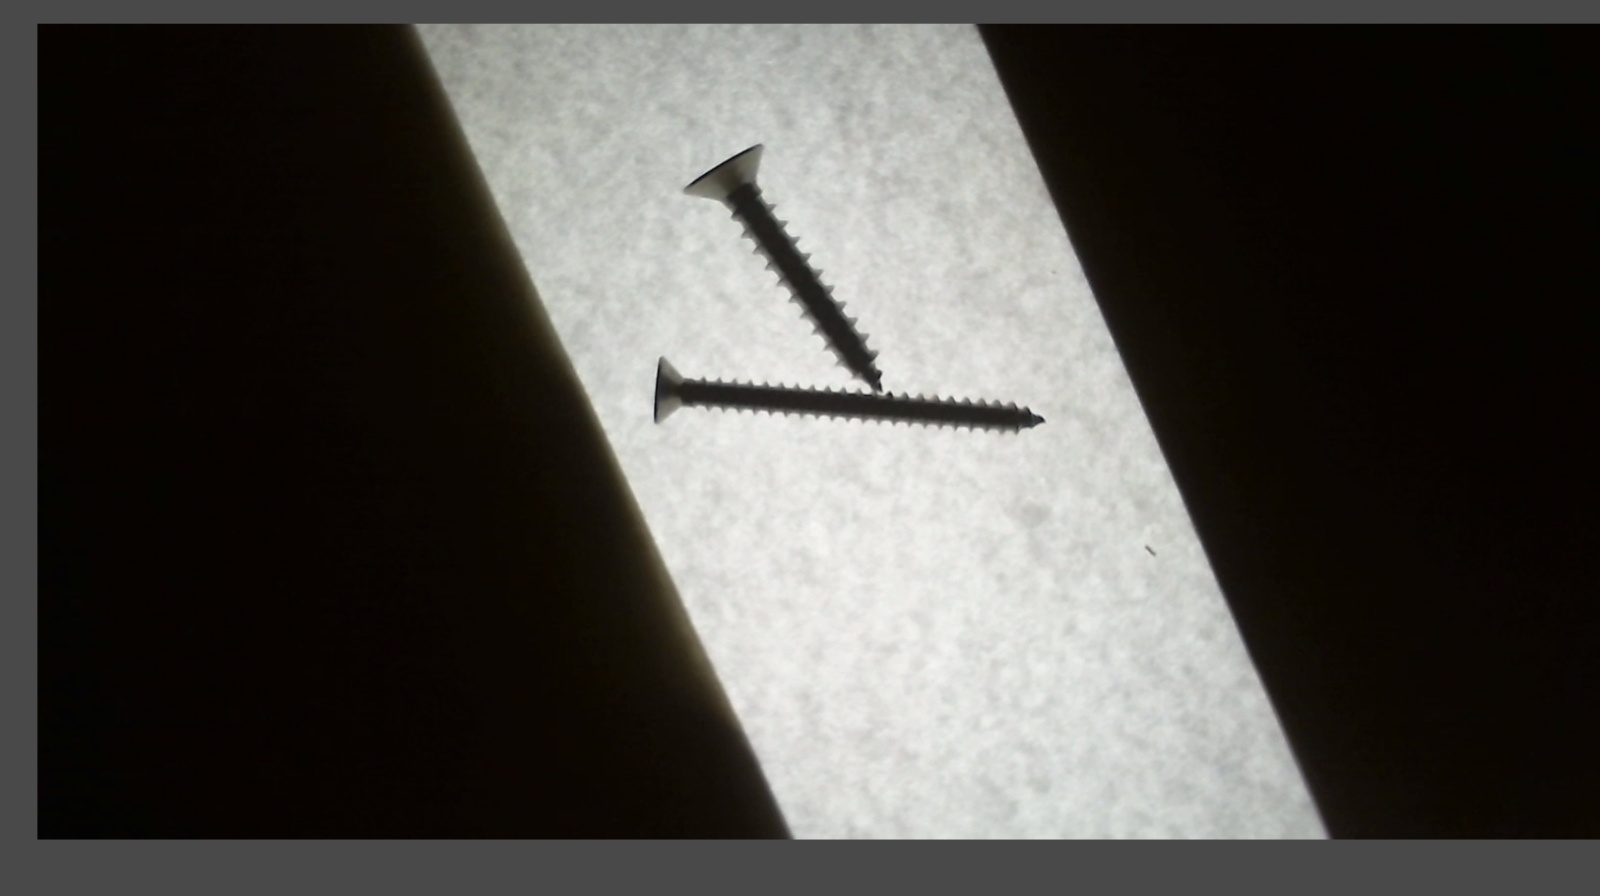S001: (676, 139, 887, 397)
S002: (643, 344, 1051, 441)
